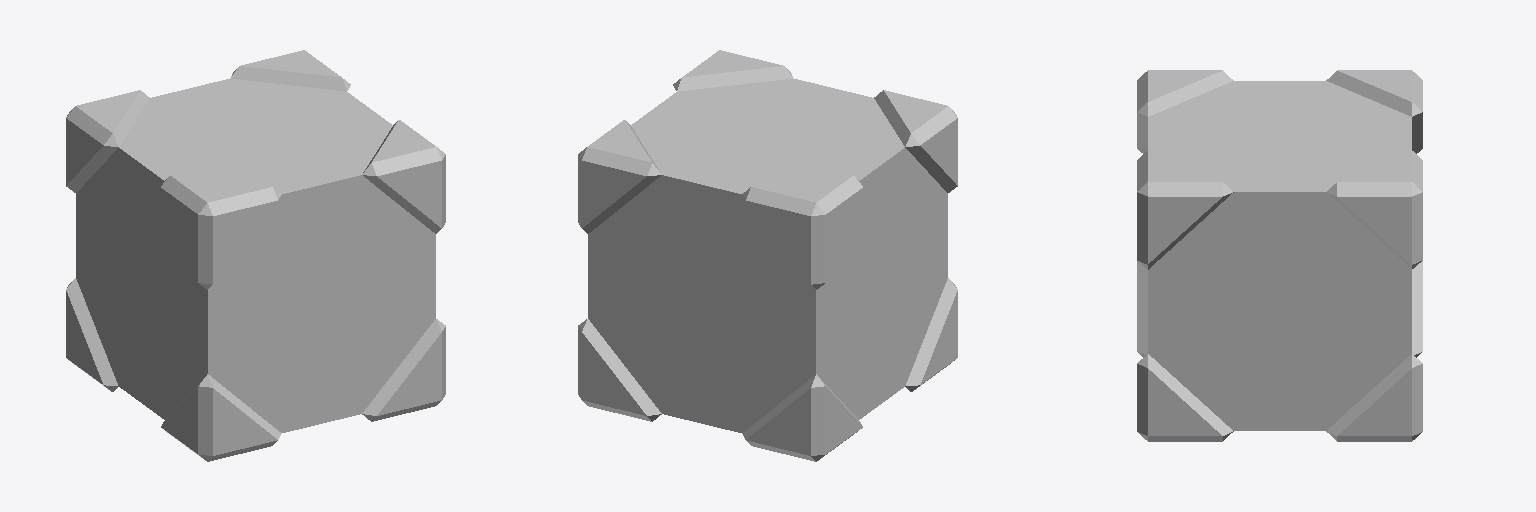
The model's file is metalbox.obj.
The picture shows the model from 3 angles: view 1: azimuth 30°, elevation 25°; view 2: azimuth 150°, elevation 25°; view 3: azimuth 270°, elevation 25°; orthographic projection.
Parts seen in each view (by area): view 1: Magic_Box_low; view 2: Magic_Box_low; view 3: Magic_Box_low.
Part boxes in pixels (x1,y1,x2,y2): Magic_Box_low: (66,50,445,461); Magic_Box_low: (578,50,957,461); Magic_Box_low: (1137,70,1422,441).
Bounding box in the file's own units: 217 × 217 × 217.